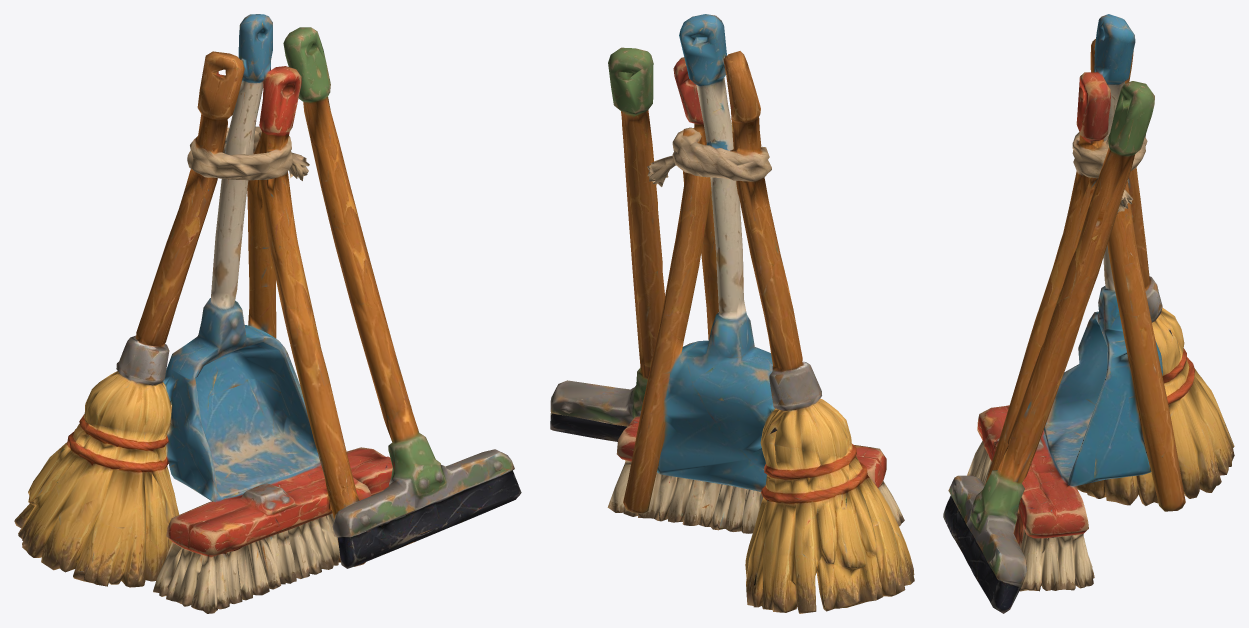
The model's file is d_brooms.glb.
3 renders of one model, left to right at view 1: azimuth 30°, elevation 25°; view 2: azimuth 150°, elevation 25°; view 3: azimuth 270°, elevation 25°, orthographic. The views are drawn at different scales.
Bounding box in the file's own units: 1.6 × 1.9 × 0.9583.
Materials: 1 (1 with a texture image).
